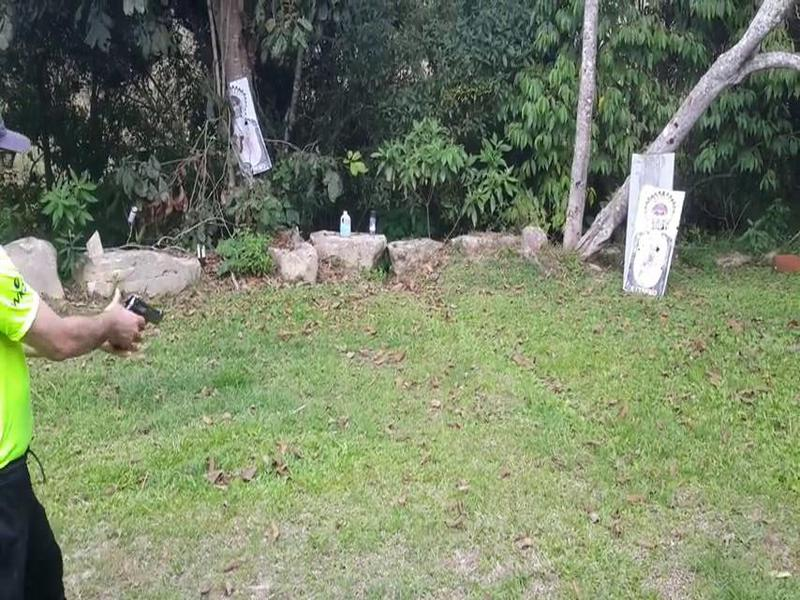Pistola: (111, 282, 181, 346)
